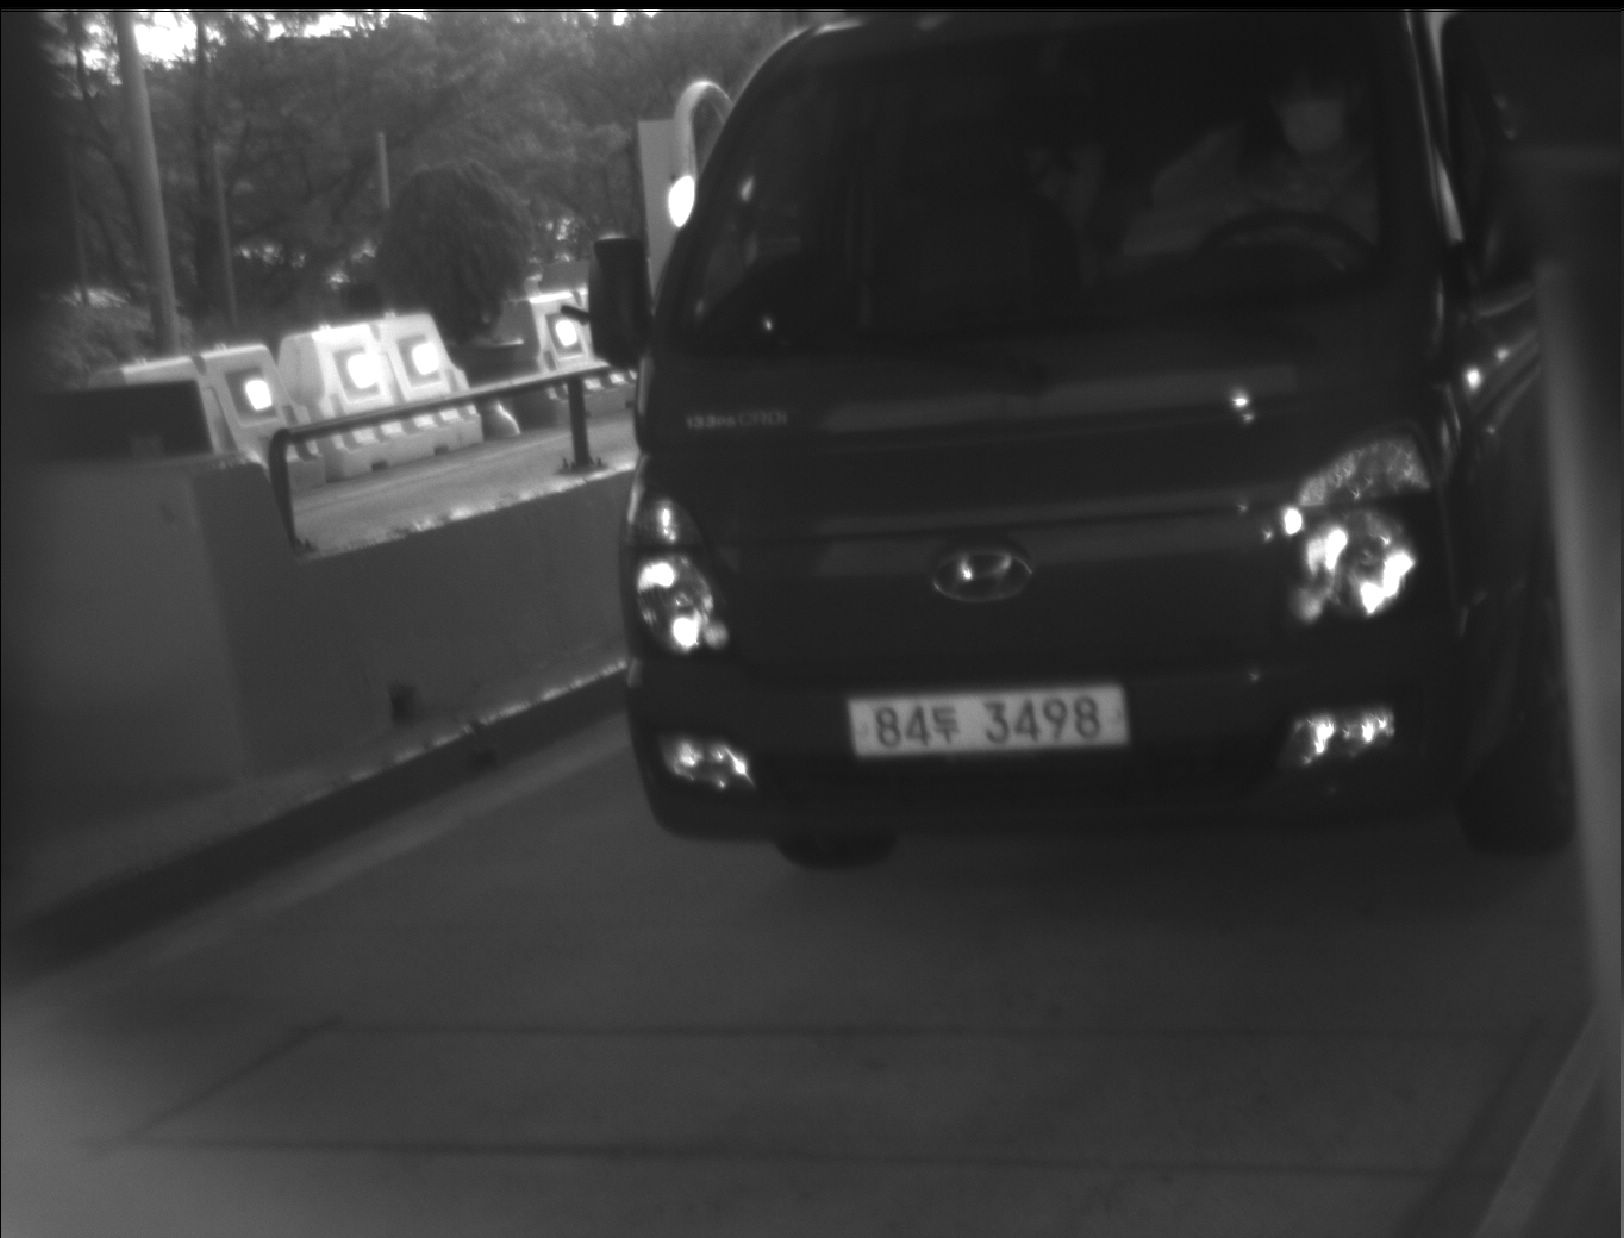car: (583, 4, 1561, 887)
plate: (836, 679, 1134, 760)
